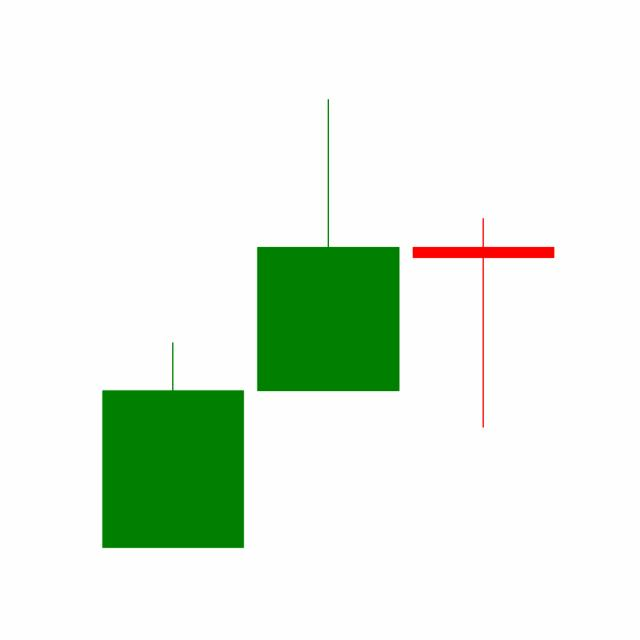Dragonfly Doji: (405, 215, 561, 429)
